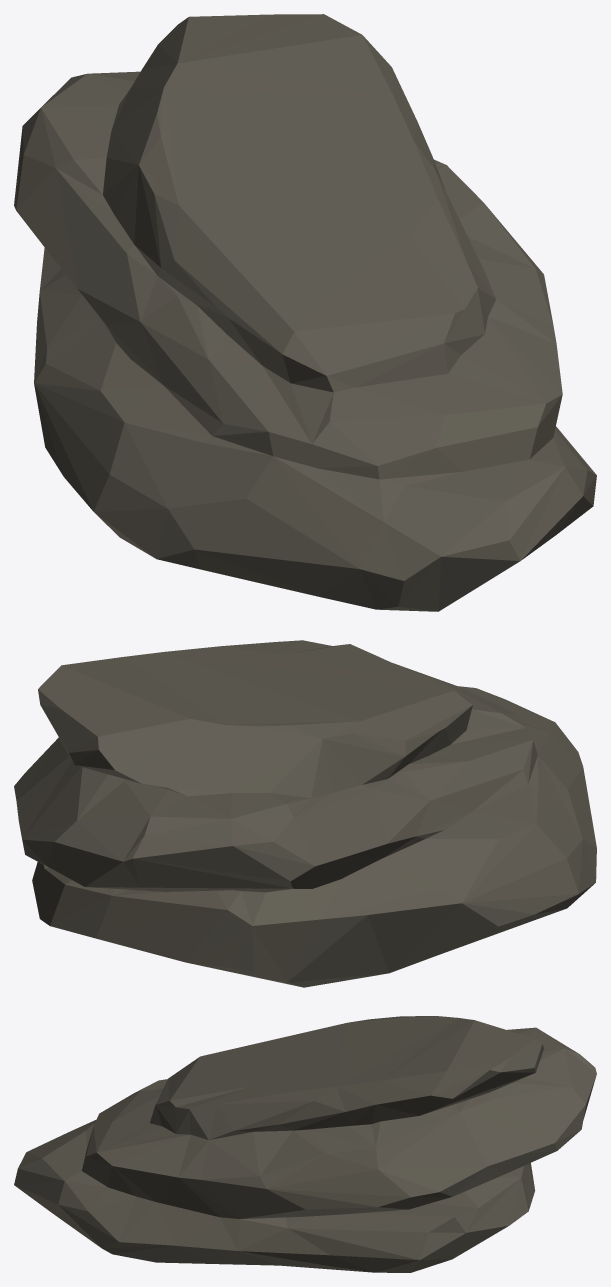
The model's file is synty-rock-pile-04.gltf.
3 renders of one model, top to bottom at view 1: azimuth 30°, elevation 25°; view 2: azimuth 150°, elevation 25°; view 3: azimuth 270°, elevation 25°, orthographic. The views are drawn at different scales.
Parts seen in each view (by area): view 1: SM_Rock_Pile_04; view 2: SM_Rock_Pile_04; view 3: SM_Rock_Pile_04.
Boxes of the visible parts, <box> form: SM_Rock_Pile_04: <box>14,14,596,611</box>; SM_Rock_Pile_04: <box>14,640,596,987</box>; SM_Rock_Pile_04: <box>14,1016,596,1272</box>.
Bounding box in the file's own units: 4.06 × 2.52 × 6.24.
Materials: 1 (1 with a texture image).
